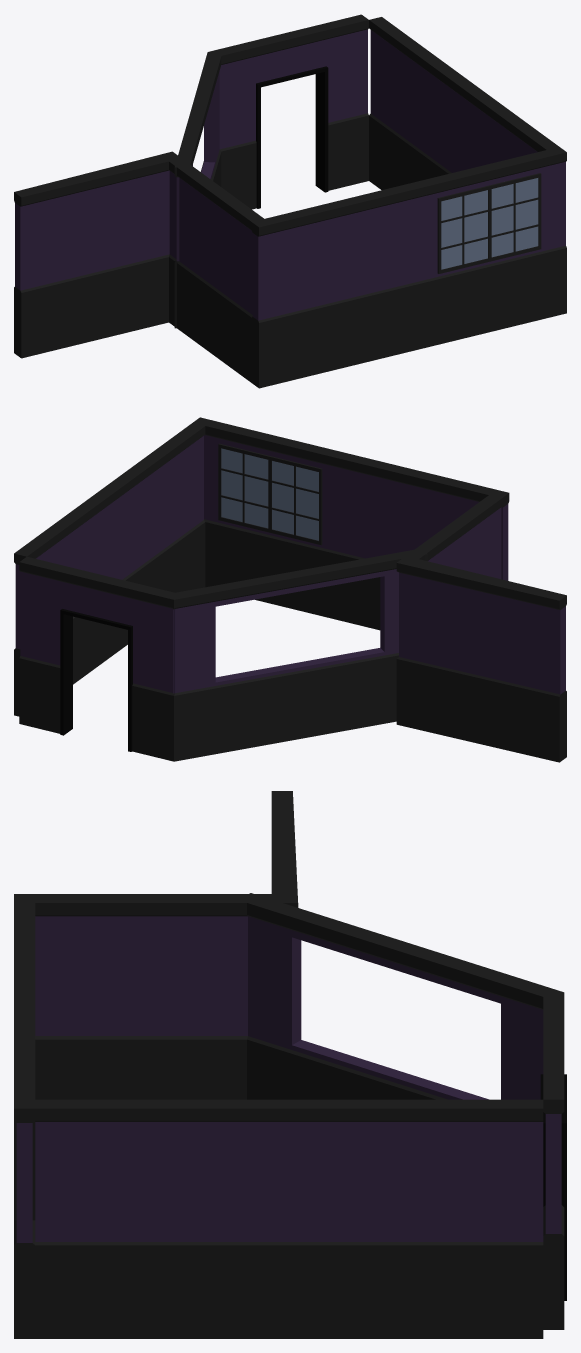
File: Kitchen.fbx
3 views of the same model, one above another, from view 1: azimuth 30°, elevation 25°; view 2: azimuth 150°, elevation 25°; view 3: azimuth 270°, elevation 25° (orthographic). The views are drawn at different scales.
Parts seen in each view (by area): view 1: Classic_Wall_Corner_snaps001 (3), Classic_Wall_snaps001 (32), Classic_WallWindow_03_snaps001 (5), Classic_WallDoorFrame_02_snaps001, Classic_Wall_snaps001 (34), Classic_Wall_snaps001 (33), Classic_WallWindowFrame_02_snaps001 (1); view 2: Classic_Wall_Corner_snaps001 (3), Classic_WallWindowFrame_02_snaps001 (1), Classic_WallWindow_03_snaps001 (5), Classic_WallDoorFrame_02_snaps001, Classic_Wall_snaps001 (33), Classic_Wall_snaps001 (32), Classic_Wall_snaps001 (34); view 3: Classic_Wall_snaps001 (33), Classic_Wall_snaps001 (34), Classic_Wall_Corner_snaps001 (3), Classic_WallWindowFrame_02_snaps001 (1), Classic_WallDoorFrame_02_snaps001, Classic_WallWindow_03_snaps001 (5), Classic_Wall_snaps001 (32).
Boxes of the visible parts, x1=… form: Classic_Wall_Corner_snaps001 (3): x1=14, y1=151, x2=265, y2=384; Classic_Wall_snaps001 (32): x1=252, y1=184, x2=412, y2=388; Classic_WallWindow_03_snaps001 (5): x1=406, y1=147, x2=566, y2=350; Classic_WallDoorFrame_02_snaps001: x1=208, y1=14, x2=368, y2=209; Classic_Wall_snaps001 (34): x1=369, y1=17, x2=470, y2=189; Classic_Wall_snaps001 (33): x1=458, y1=82, x2=559, y2=171; Classic_WallWindowFrame_02_snaps001 (1): x1=174, y1=52, x2=221, y2=328; Classic_Wall_Corner_snaps001 (3): x1=396, y1=494, x2=566, y2=762; Classic_WallWindowFrame_02_snaps001 (1): x1=169, y1=550, x2=427, y2=761; Classic_WallWindow_03_snaps001 (5): x1=193, y1=417, x2=354, y2=622; Classic_WallDoorFrame_02_snaps001: x1=19, y1=557, x2=180, y2=761; Classic_Wall_snaps001 (33): x1=103, y1=423, x2=205, y2=652; Classic_Wall_snaps001 (32): x1=347, y1=455, x2=509, y2=630; Classic_Wall_snaps001 (34): x1=14, y1=488, x2=116, y2=716; Classic_Wall_snaps001 (33): x1=35, y1=1099, x2=289, y2=1338; Classic_Wall_snaps001 (34): x1=289, y1=1099, x2=543, y2=1338; Classic_Wall_Corner_snaps001 (3): x1=28, y1=791, x2=298, y2=1099; Classic_WallWindowFrame_02_snaps001 (1): x1=239, y1=893, x2=563, y2=1099; Classic_WallDoorFrame_02_snaps001: x1=540, y1=992, x2=566, y2=1329; Classic_WallWindow_03_snaps001 (5): x1=14, y1=1001, x2=35, y2=1338; Classic_Wall_snaps001 (32): x1=14, y1=894, x2=35, y2=1001.
Bounding box in the file's own units: 8.88 × 3 × 6.53.
